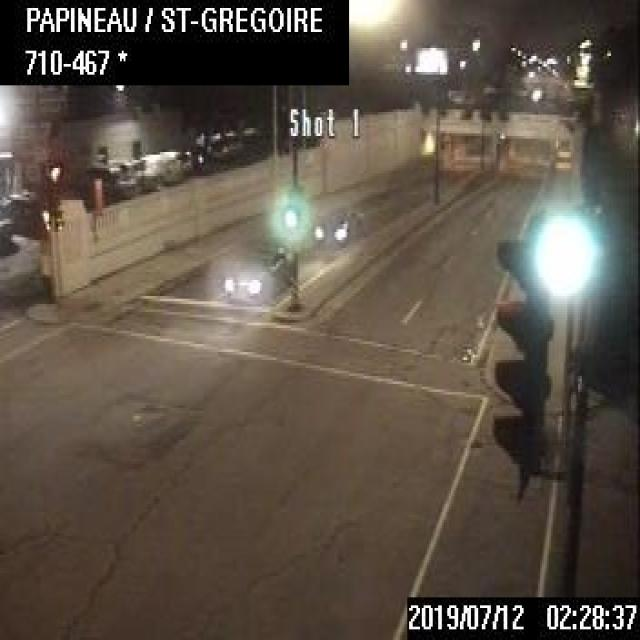vehicle: (218, 250, 289, 298), (309, 208, 366, 251)
